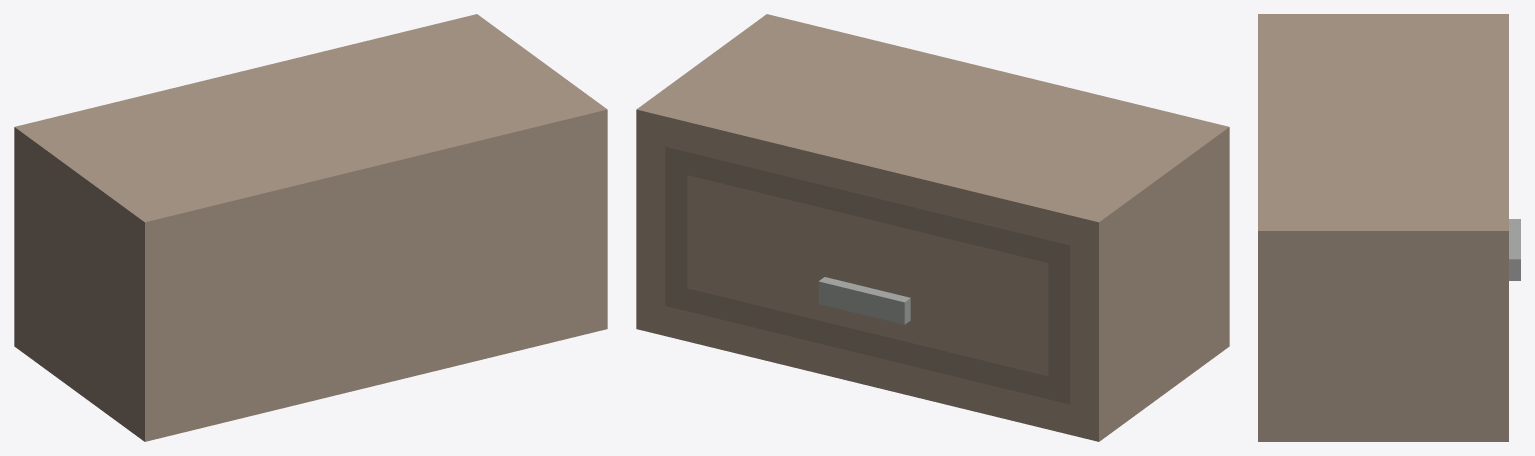
File: kitchen_cabinet_upper_low.glb
The picture shows the model from 3 angles, left to right: view 1: azimuth 30°, elevation 25°; view 2: azimuth 150°, elevation 25°; view 3: azimuth 270°, elevation 25°; orthographic projection. The views are drawn at different scales.
Parts seen in each view (by area): view 1: kitchen_cabinet_upper_low; view 2: kitchen_cabinet_upper_low; view 3: kitchen_cabinet_upper_low.
Boxes of the visible parts, x1,y1,x2,y2 form: kitchen_cabinet_upper_low: (14, 14, 607, 441); kitchen_cabinet_upper_low: (636, 14, 1229, 441); kitchen_cabinet_upper_low: (1258, 14, 1520, 441).
Size of the model in its own units: 0.9923 by 0.45 by 0.5077.
